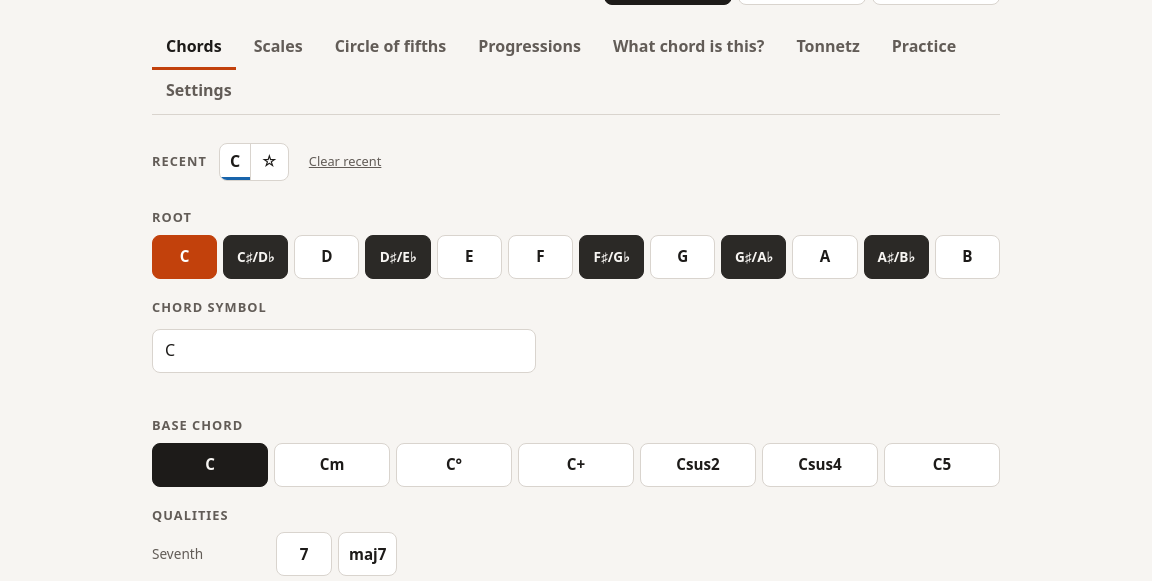
Scenario: App › spells E♭ minor with flats
This screenshot has width=1152, height=581.
Click the radio button labelled "D♯/E♭".
click(398, 257)  # box x1=366 y1=235 x2=431 y2=279
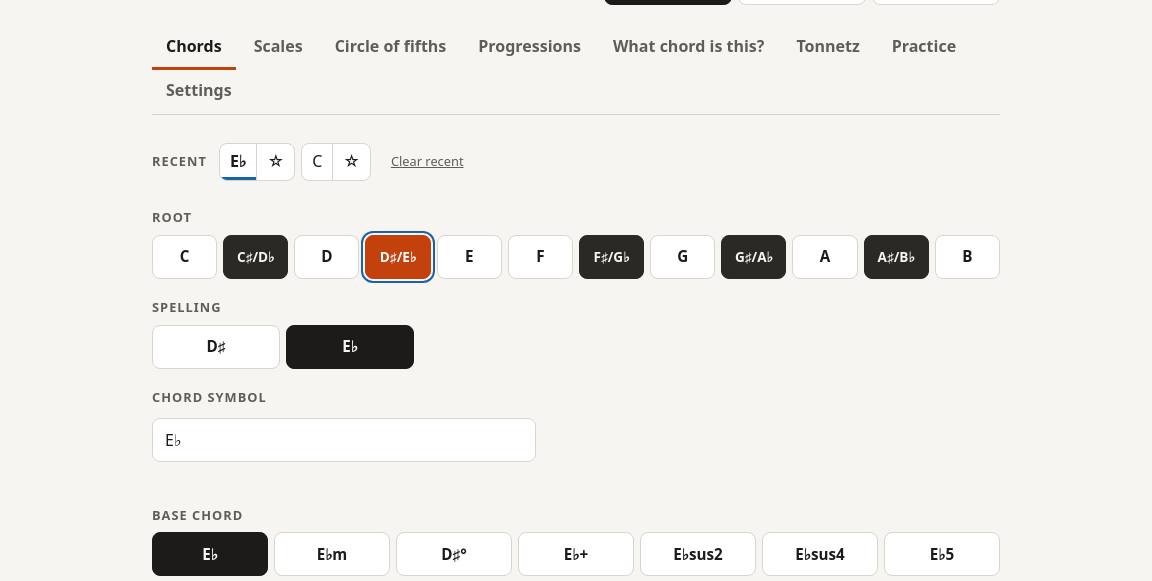
Click the radio button named "Minor".
click(332, 554)  # box x1=274 y1=532 x2=390 y2=576
(page scrolled)
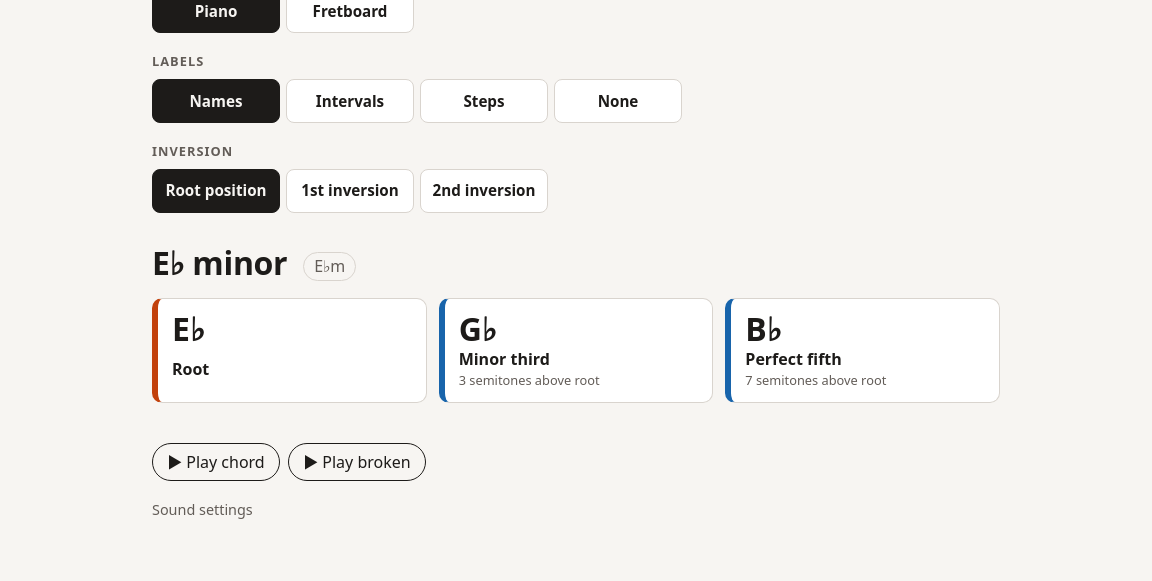
Check: the heading "E♭ minor E♭m" is shown, box x1=152 y1=241 x2=356 y2=284
